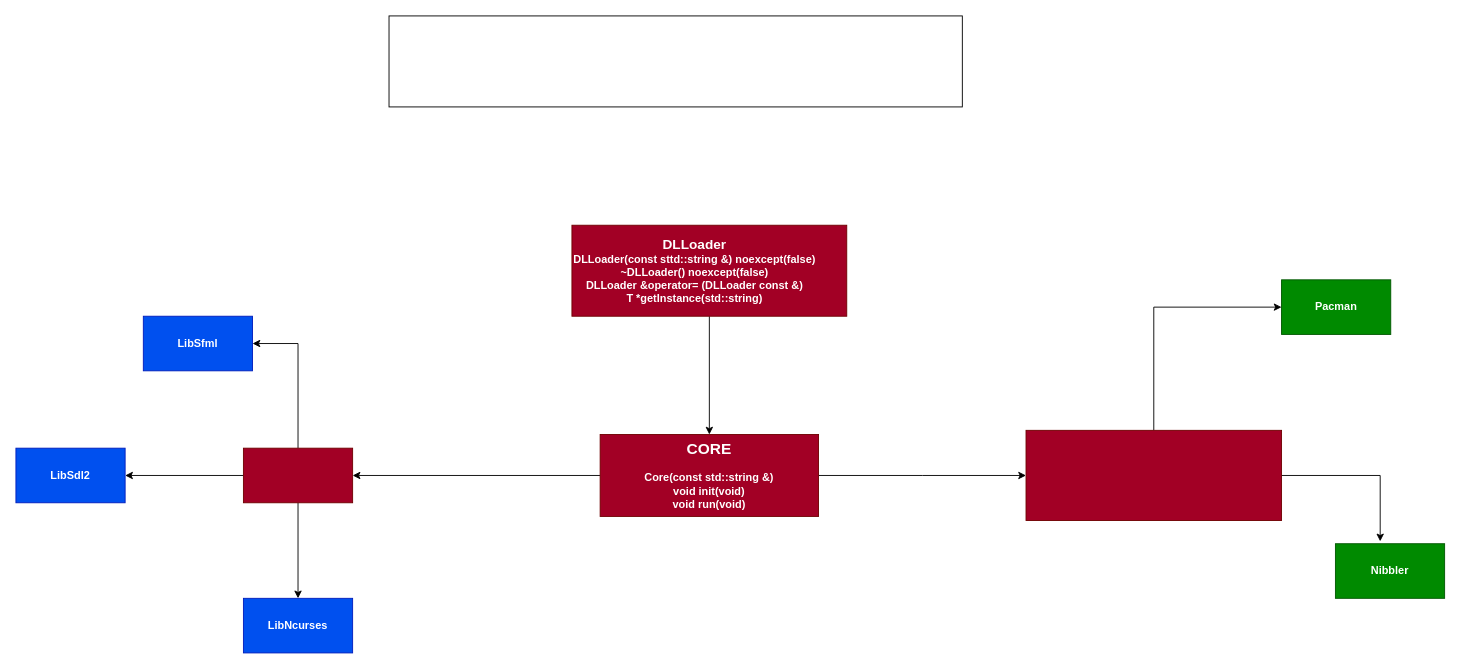
The diagram is 1461 pixels wide and 669 high, and some of its shapes have lost their labels. The box of each missing label's shape, as (x1, y1, x2, y2) in pixels:
IGame virtual void play() virtual void eventManager() virtual void display(): (1025, 429, 1282, 521)
ILib virtual void run() ~Ilib() = default: (243, 447, 353, 503)
UML ARCADE: (388, 15, 962, 107)
